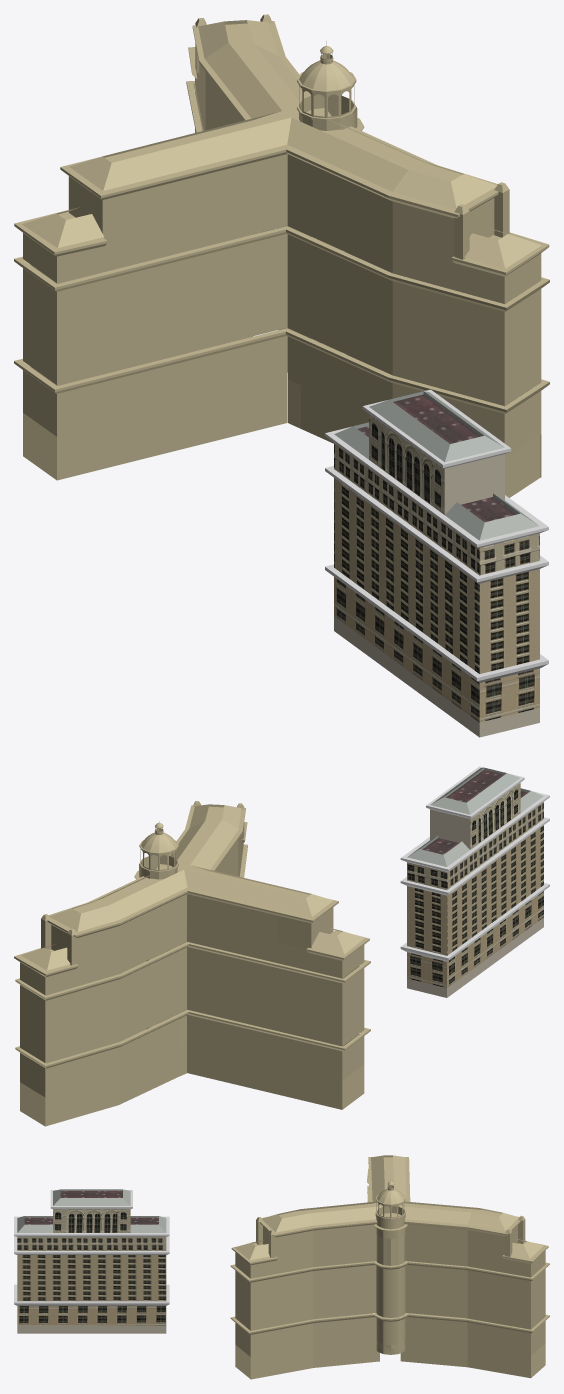
The model's file is Bellagio_Finished_01.fbx.
3 views of the same model, one above another, from view 1: azimuth 30°, elevation 25°; view 2: azimuth 150°, elevation 25°; view 3: azimuth 270°, elevation 25° (orthographic). The views are drawn at different scales.
Parts seen in each view (by area): view 1: Big_Building, Small_Building; view 2: Big_Building, Small_Building; view 3: Big_Building, Small_Building.
Boxes of the visible parts, box(x1,y1,x2,y2) form: Big_Building: box(14, 14, 549, 497); Small_Building: box(325, 389, 548, 737); Big_Building: box(14, 801, 370, 1126); Small_Building: box(400, 766, 549, 997); Big_Building: box(230, 1155, 549, 1379); Small_Building: box(14, 1189, 169, 1333).
Bounding box in the file's own units: 936 × 894 × 2232.
Materials: 10 (6 with a texture image).
